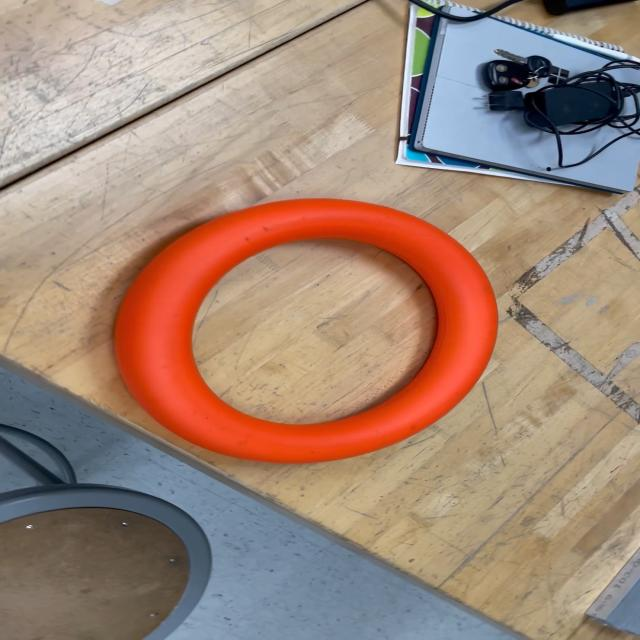note: (111, 199, 501, 464)
